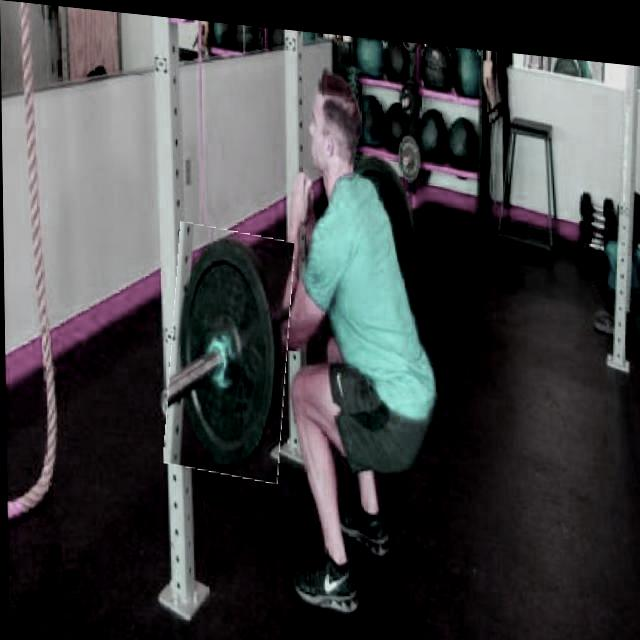barbell: (166, 220, 292, 479)
